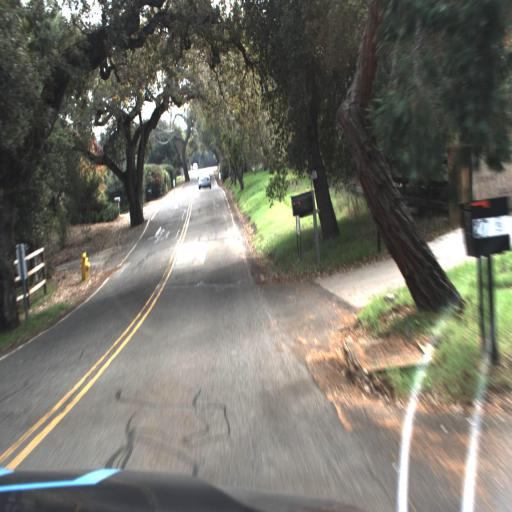car: (194, 166, 214, 192)
